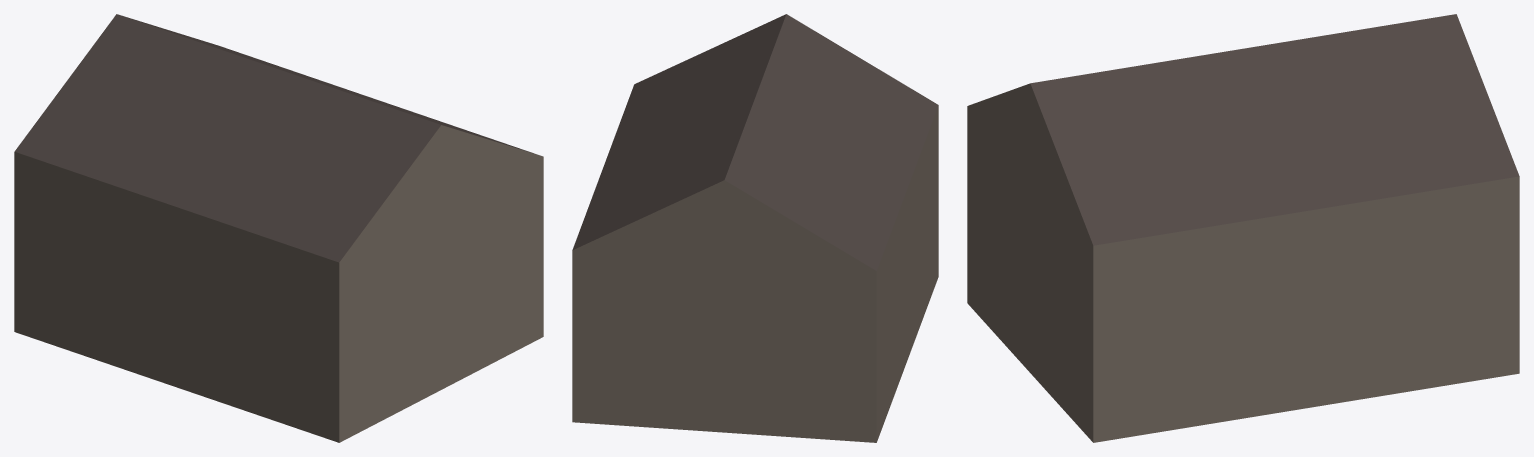
3 views of the same model, side by side, from view 1: azimuth 30°, elevation 25°; view 2: azimuth 150°, elevation 25°; view 3: azimuth 270°, elevation 25° (orthographic). The views are drawn at different scales.
Parts seen in each view (by area): view 1: HP-w859457351; view 2: HP-w859457351; view 3: HP-w859457351.
Boxes of the visible parts, box(x1,y1,x2,y2) form: HP-w859457351: box(14, 14, 543, 442); HP-w859457351: box(572, 14, 938, 442); HP-w859457351: box(967, 14, 1519, 442).
Bounding box in the file's own units: 20.46 × 13.22 × 22.84.
